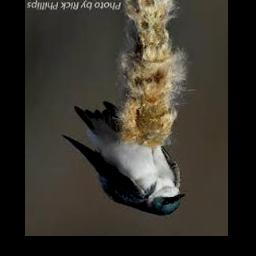Swallow: (62, 102, 188, 217)
